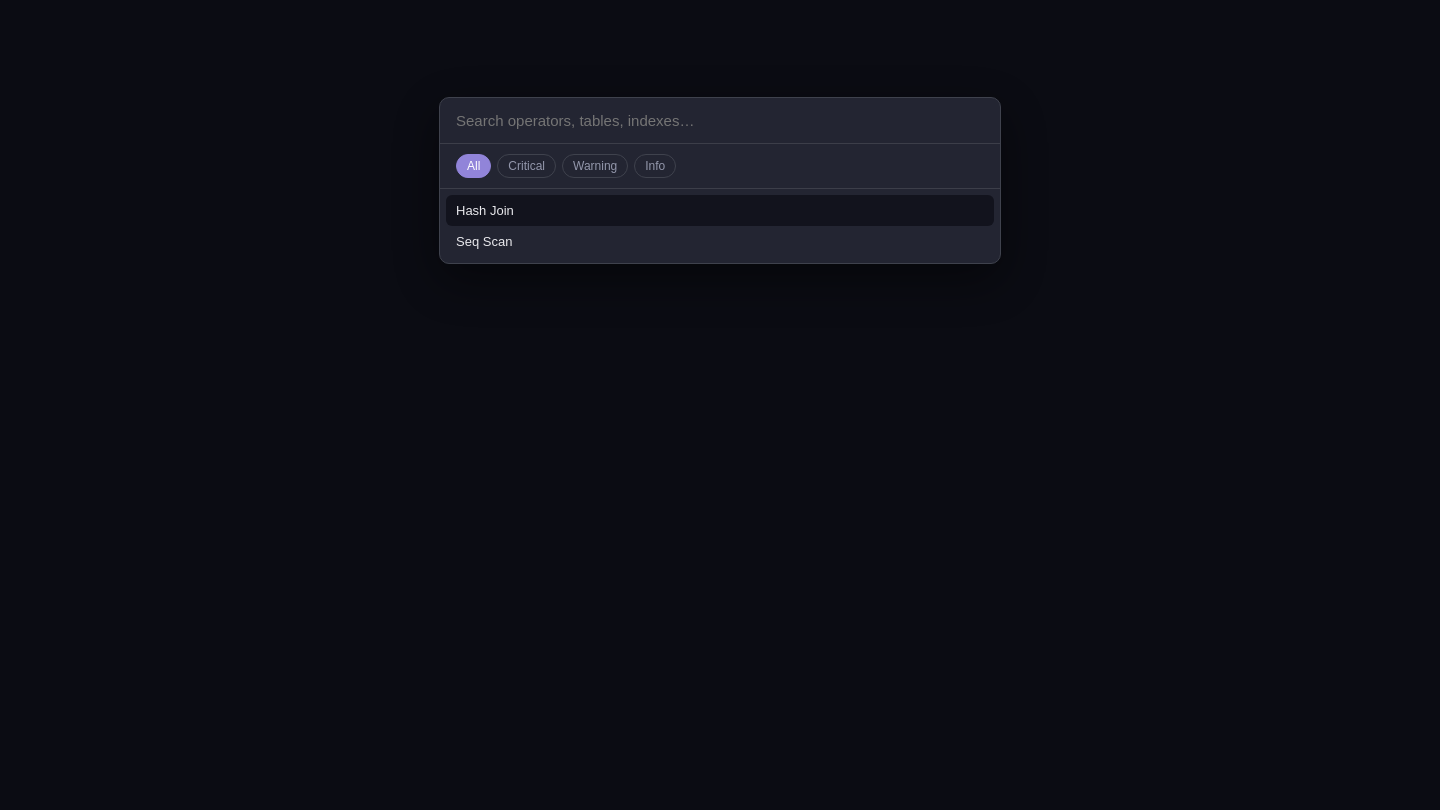
it: SearchPalette › narrows results as the query changes, and reports the active matched set
In the dropdown with test id "search-palette-input": (720, 121) [440,98,1000,144], type "hash"
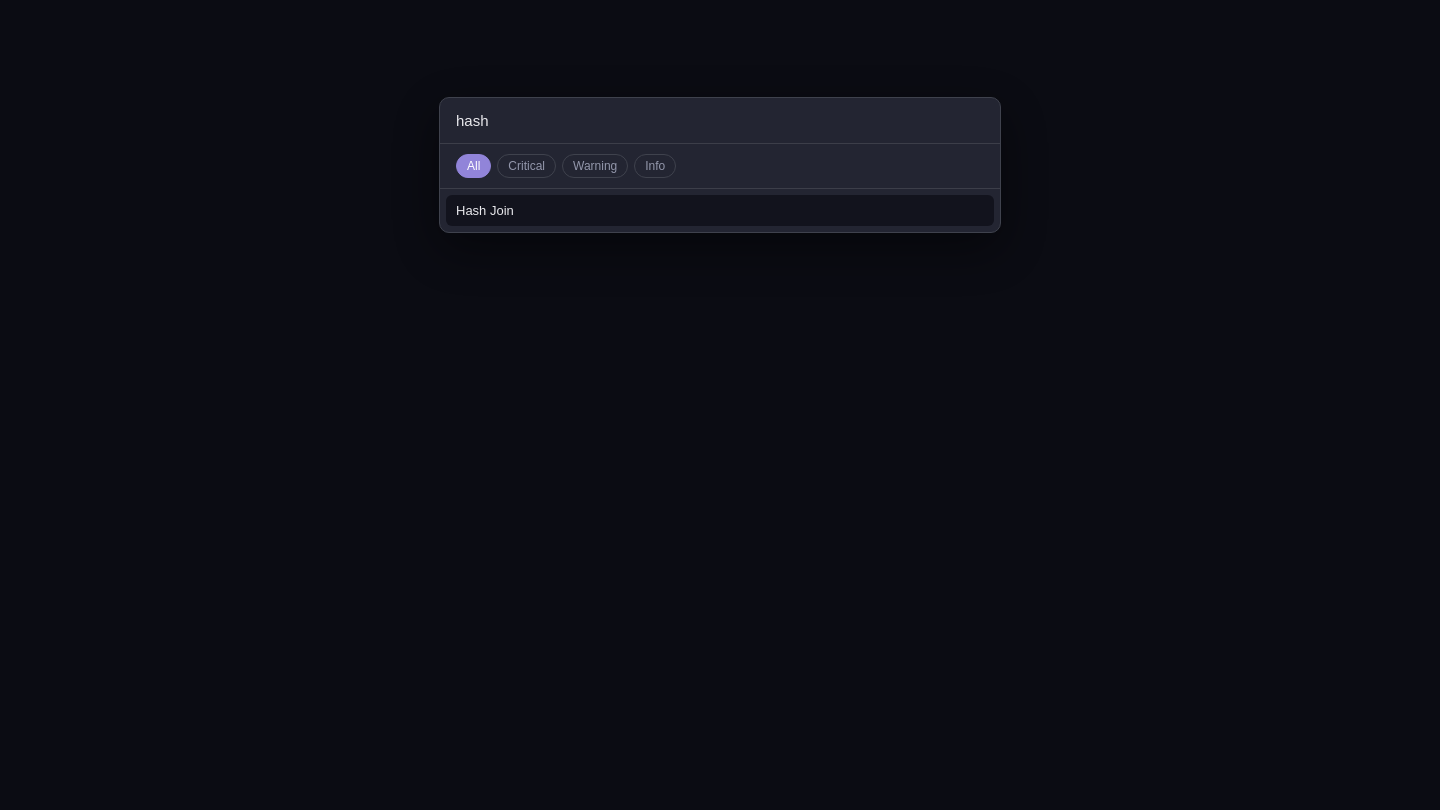
Check: the text "Hash Join" is shown, box [456,203,514,218]
Check: the number of options with test id "search-palette-result" is 1, box [446,195,994,226]
